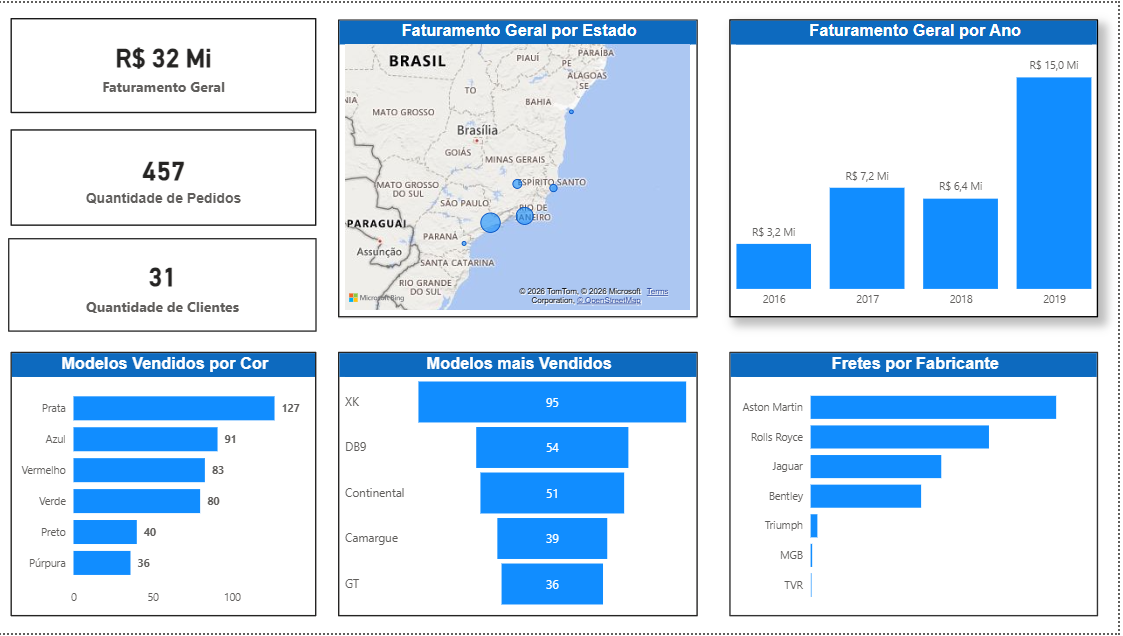

The dashboard page shown, as its layout file describes it:
{"tool":"powerbi","page":{"name":"Página 1","canvas":[1280,720],"ordinal":0},"visuals":[{"type":"card","fields":{"Values":["VendaCarros.Faturamento"]},"box":[14.6,17.8,349.8,108.5],"z":0},{"type":"clusteredColumnChart","fields":{"Category":["VendaCarros.DataNotaFiscal.Variation.Hierarquia de datas.Ano"],"Y":["VendaCarros.Faturamento"]},"box":[835.2,18.3,421.9,341.2],"z":1000},{"type":"card","fields":{"Values":["VendaCarros.qtd pedidos"]},"box":[14.6,144.1,349.8,110.1],"z":2000},{"type":"card","fields":{"Values":["VendaCarros.qtd cliente"]},"box":[11.3,268.8,353,106.9],"z":3000},{"type":"clusteredBarChart","title":"Fretes por Fabricante","fields":{"Y":["VendaCarros.frete"],"Category":["VendaCarros.Fabricante"]},"box":[835.2,398.6,421.9,302],"z":4000},{"type":"map","fields":{"Category":["VendaCarros.Estado"],"Size":["VendaCarros.Faturamento"]},"box":[388.9,18.3,410.9,341.2],"z":5000},{"type":"funnel","title":"Modelos mais Vendidos","fields":{"Y":["VendaCarros.qtd modelos"],"Category":["VendaCarros.Modelo"]},"box":[388.9,398.6,410.9,302],"z":6000},{"type":"clusteredBarChart","title":"Modelos Vendidos por Cor","fields":{"Category":["VendaCarros.Cor"],"Y":["VendaCarros.qtd modelos"]},"box":[14.7,398.6,349.7,302],"z":7000}]}

Visuals, with their boxes in screenshot pixels (x1, y1, x2, y2), scaled from the page's 1280x720 canvas onto the 1123x636 screenshot:
card - VendaCarros.Faturamento: <region>13, 16, 320, 112</region>
clusteredColumnChart - VendaCarros.DataNotaFiscal.Variation.Hierarquia de datas.Ano x VendaCarros.Faturamento: <region>733, 16, 1103, 318</region>
card - VendaCarros.qtd pedidos: <region>13, 127, 320, 225</region>
card - VendaCarros.qtd cliente: <region>10, 237, 320, 332</region>
"Fretes por Fabricante" clusteredBarChart: <region>733, 352, 1103, 619</region>
map - VendaCarros.Estado x VendaCarros.Faturamento: <region>341, 16, 702, 318</region>
"Modelos mais Vendidos" funnel: <region>341, 352, 702, 619</region>
"Modelos Vendidos por Cor" clusteredBarChart: <region>13, 352, 320, 619</region>
